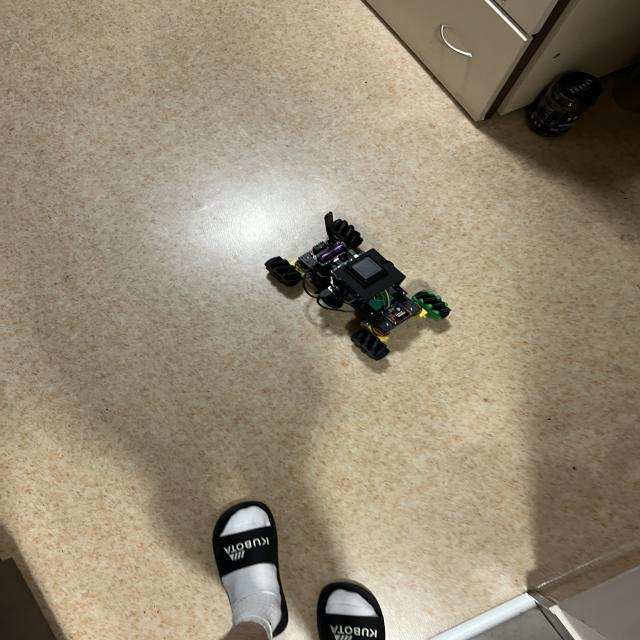robot: (265, 212, 450, 360)
